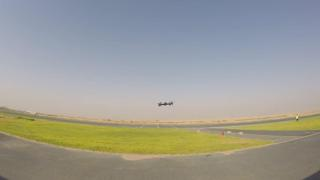UAV: (158, 102, 175, 107)
